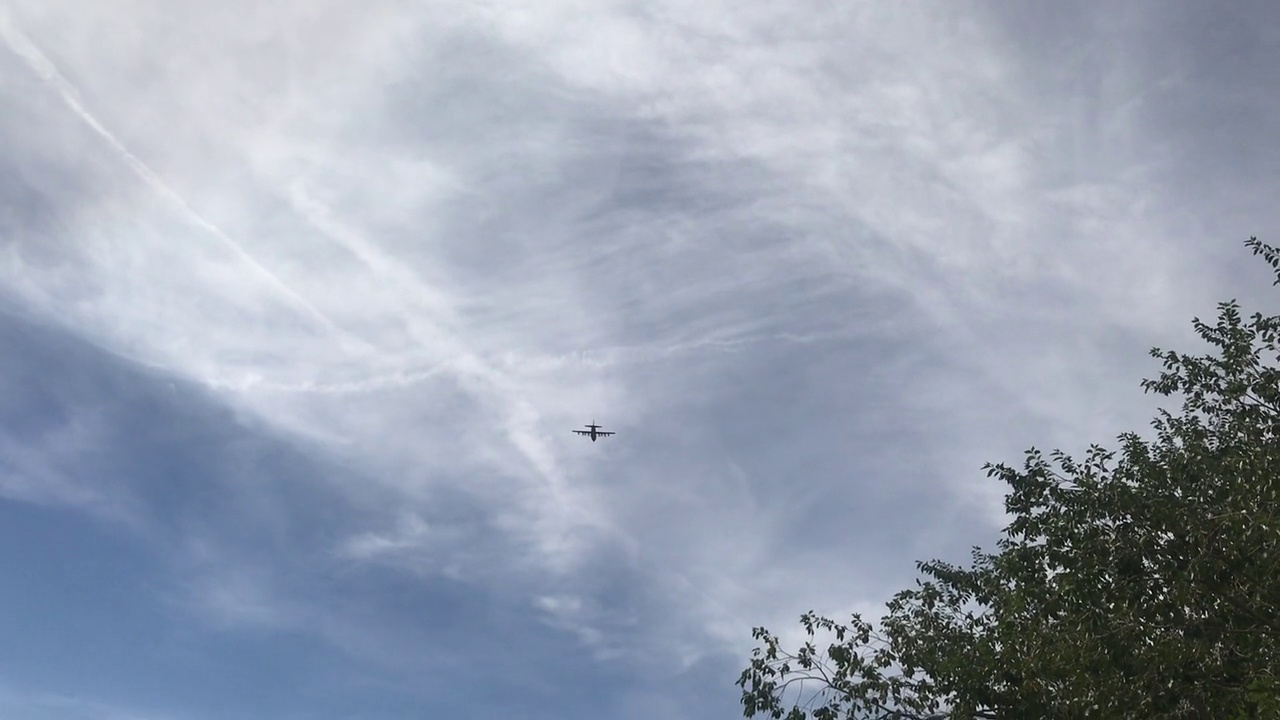plane: (571, 419, 615, 442)
